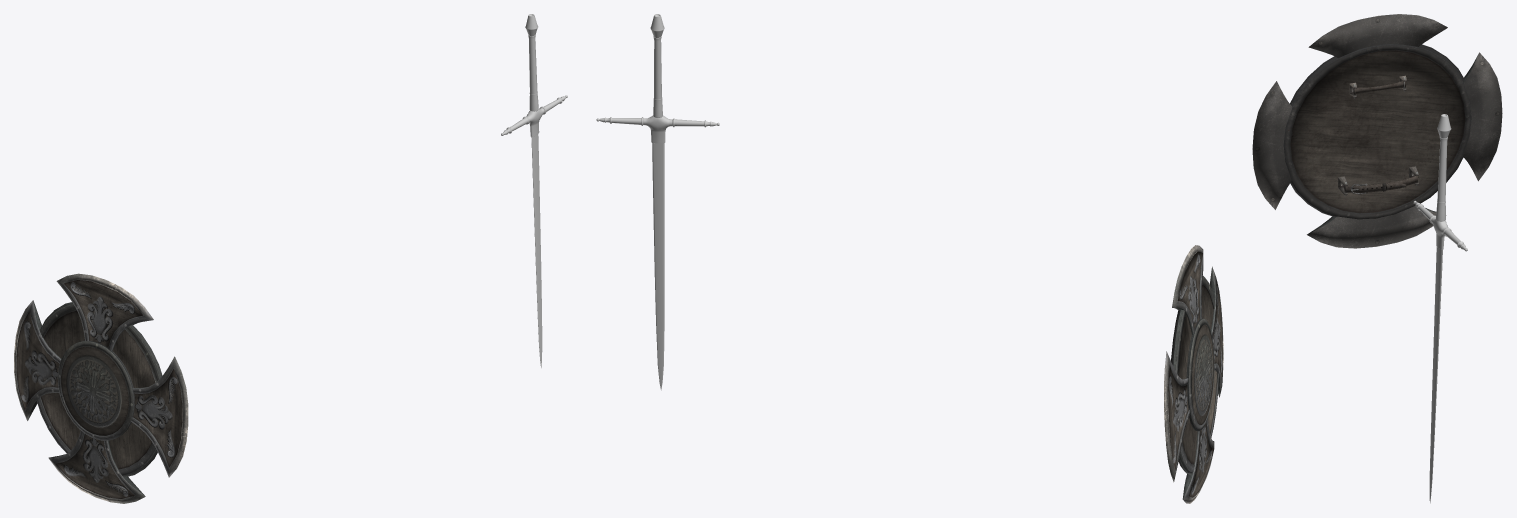
File: weapon.fbx
3 views of the same model, side by side, from view 1: azimuth 30°, elevation 25°; view 2: azimuth 150°, elevation 25°; view 3: azimuth 270°, elevation 25° (orthographic). The views are drawn at different scales.
Visible parts, largest first — view 1: Object_2.023, Merged_Sword_Sides_low1:Group62261_MAT_SWORD_0; view 2: Object_2.023, Merged_Sword_Sides_low1:Group62261_MAT_SWORD_0; view 3: Object_2.023, Merged_Sword_Sides_low1:Group62261_MAT_SWORD_0.
Boxes of the visible parts, x1,y1,x2,y2 form: Object_2.023: [14, 273, 188, 503]; Merged_Sword_Sides_low1:Group62261_MAT_SWORD_0: [501, 14, 567, 367]; Object_2.023: [1164, 245, 1223, 503]; Merged_Sword_Sides_low1:Group62261_MAT_SWORD_0: [596, 14, 719, 390]; Object_2.023: [1252, 14, 1502, 248]; Merged_Sword_Sides_low1:Group62261_MAT_SWORD_0: [1413, 114, 1467, 503].
Size of the model in its own units: 284 by 176 by 103.
